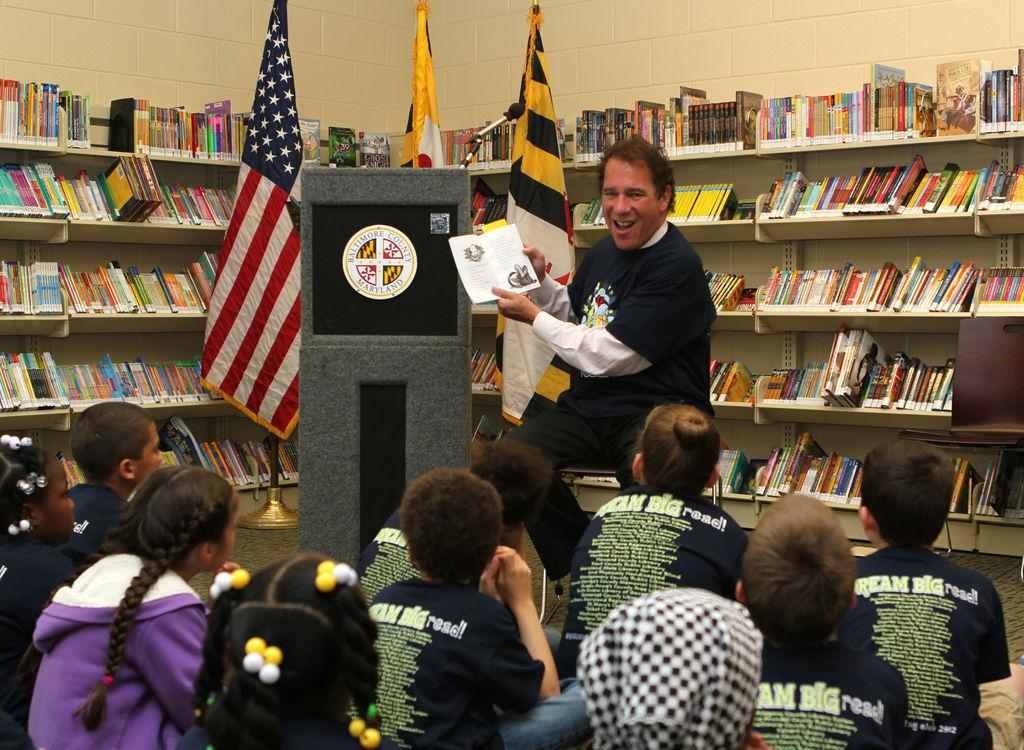Book: (0, 75, 1023, 561), (447, 219, 540, 303)
